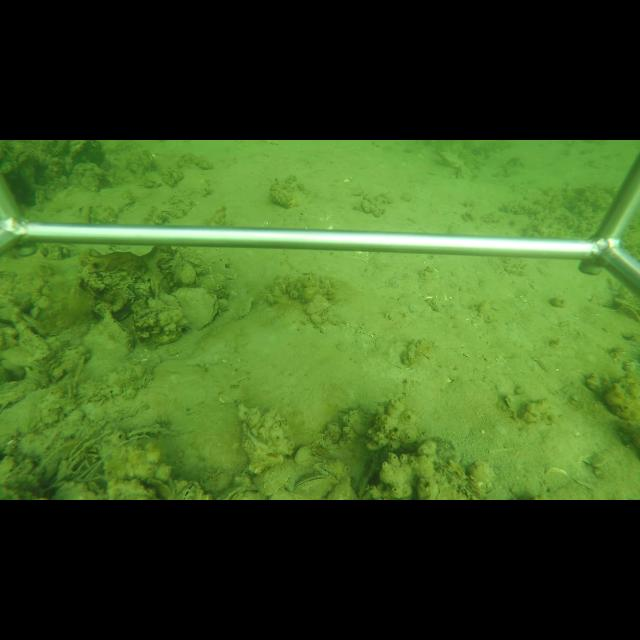Oyster-Closed: (173, 286, 221, 330), (99, 310, 137, 354), (255, 464, 293, 497), (292, 472, 337, 496), (218, 486, 267, 498), (440, 152, 466, 168)
